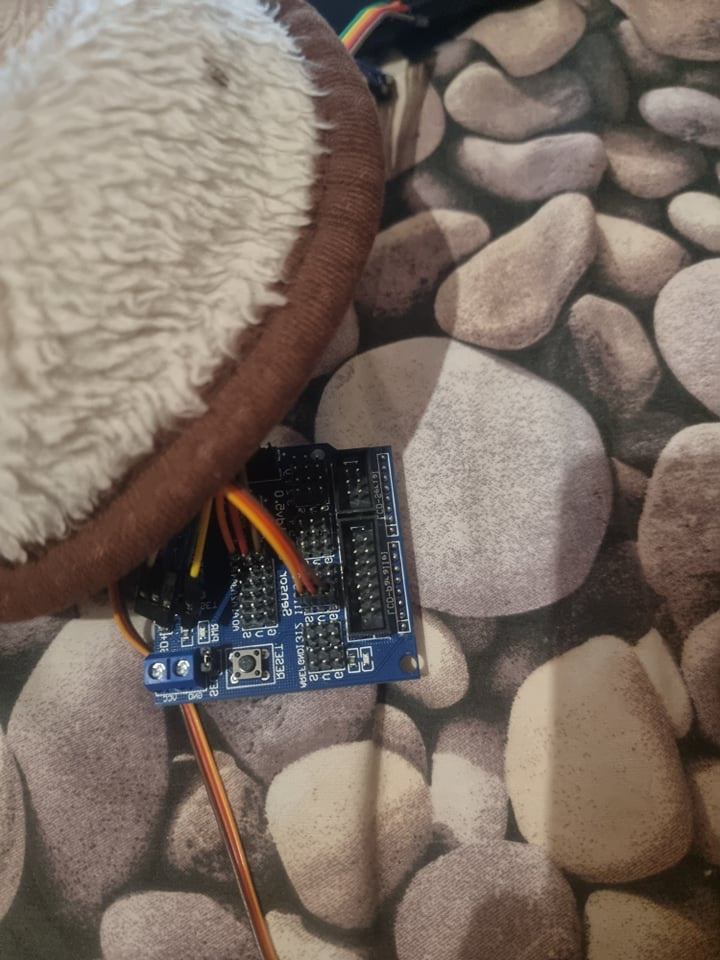5V EXPANSION: (142, 447, 427, 707)
